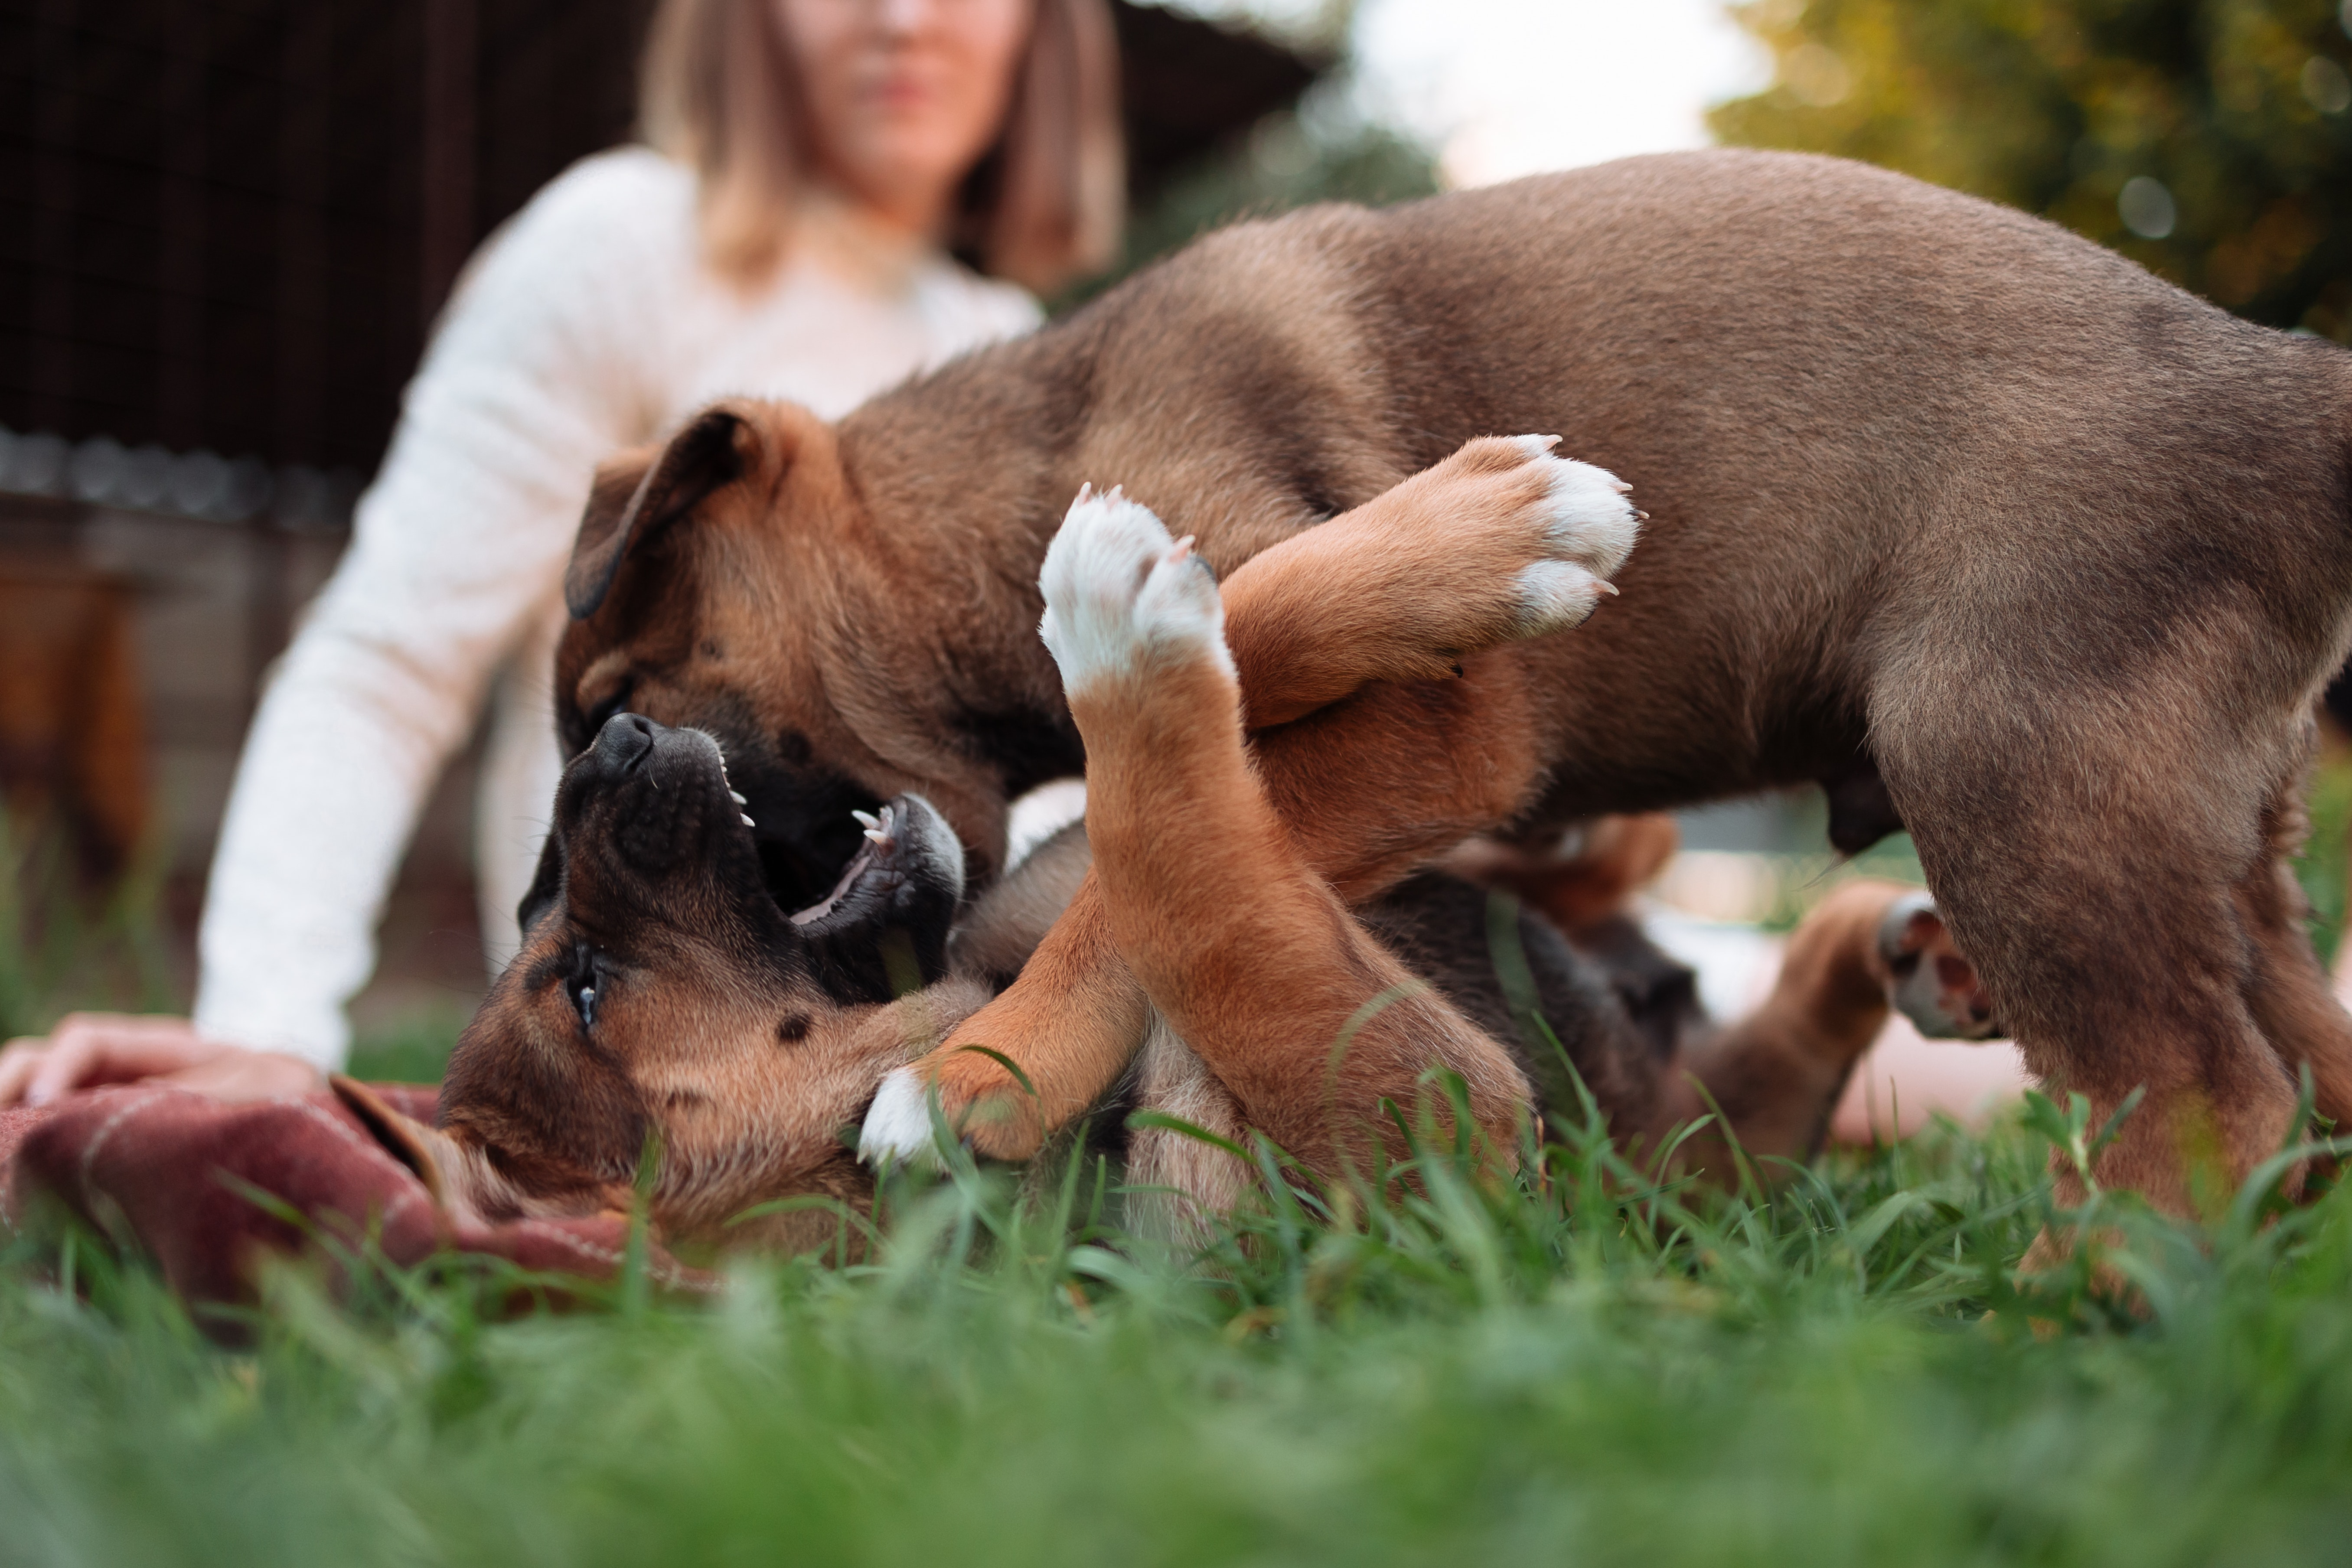dog: (651, 152, 2352, 856), (441, 719, 1934, 1358)
